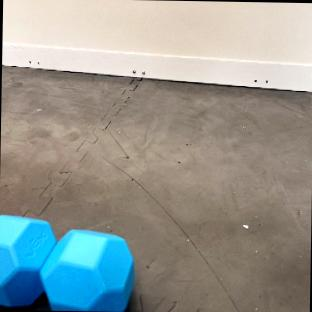V5_BLUE: (0, 215, 134, 311)
